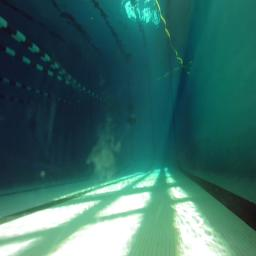Full: (128, 118, 136, 124)
